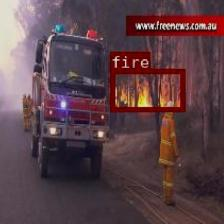fire: (109, 68, 184, 111)
